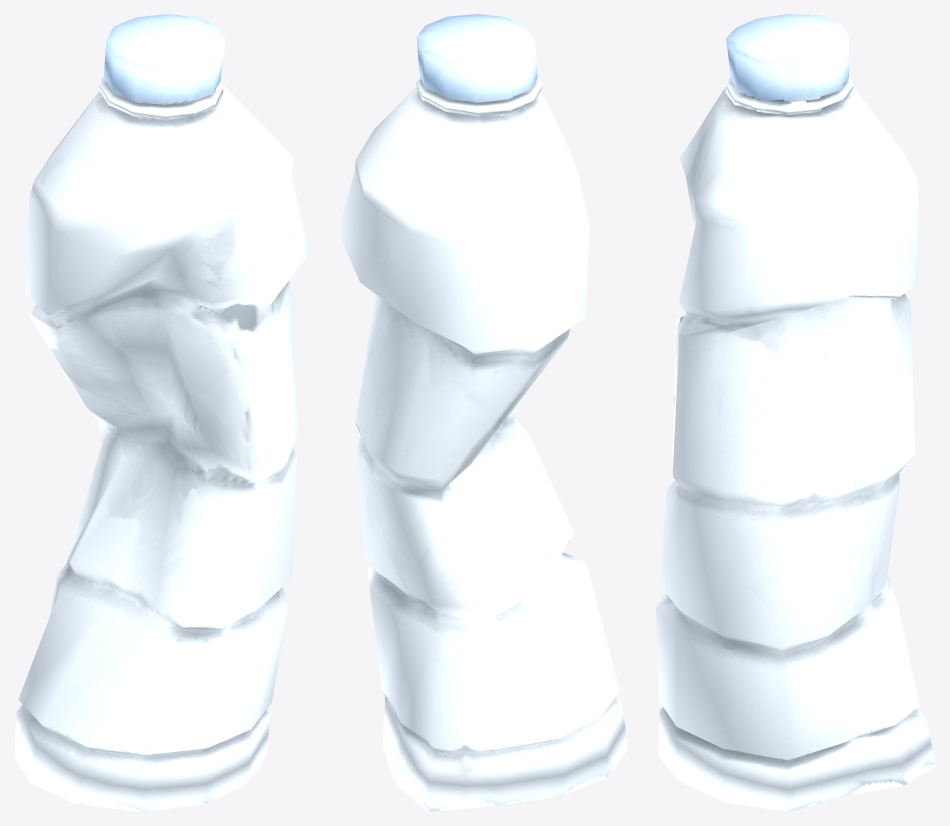
The model's file is plasticbottle.glb.
3 views of the same model, side by side, from view 1: azimuth 30°, elevation 25°; view 2: azimuth 150°, elevation 25°; view 3: azimuth 270°, elevation 25° (orthographic). The views are drawn at different scales.
Parts seen in each view (by area): view 1: Bottle1_LP; view 2: Bottle1_LP; view 3: Bottle1_LP.
Boxes of the visible parts, x1,y1,x2,y2 form: Bottle1_LP: [14, 14, 309, 811]; Bottle1_LP: [338, 14, 627, 811]; Bottle1_LP: [656, 14, 935, 811].
Size of the model in its own units: 0.0175 by 0.0474 by 0.0162.
Materials: 1 (1 with a texture image).
